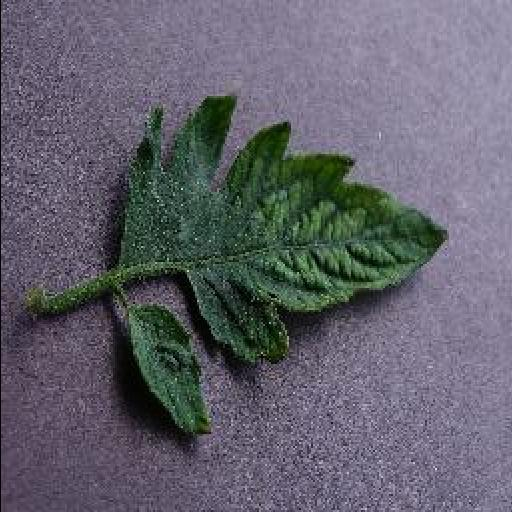disease_tomato: (114, 88, 454, 440)
